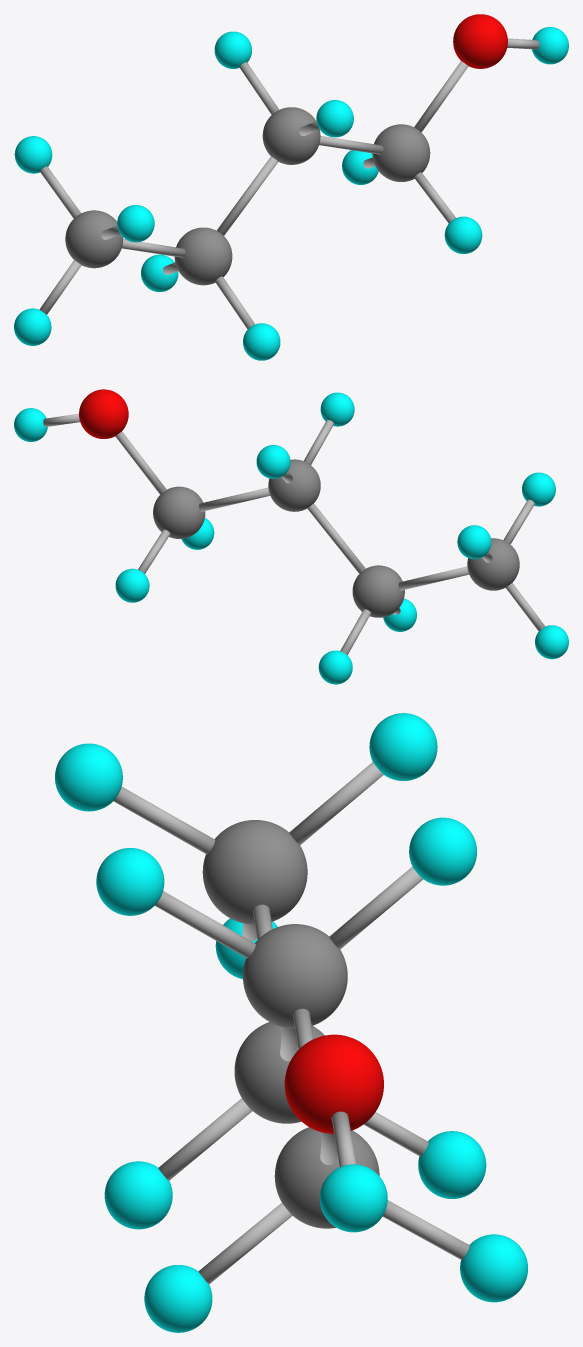
File: 1-butanol.glb
3 renders of one model, top to bottom at view 1: azimuth 30°, elevation 25°; view 2: azimuth 150°, elevation 25°; view 3: azimuth 270°, elevation 25°, orthographic. The views are drawn at different scales.
Visible parts, largest first — view 1: CMAtom_0; view 2: CMAtom_0; view 3: CMAtom_0.
Part boxes in pixels (left/top/right/bottom): CMAtom_0: left=14, top=14, right=568, bottom=360; CMAtom_0: left=14, top=389, right=568, bottom=684; CMAtom_0: left=55, top=713, right=527, bottom=1332.
Bounding box in the file's own units: 0.7118 × 0.2948 × 0.2781.
